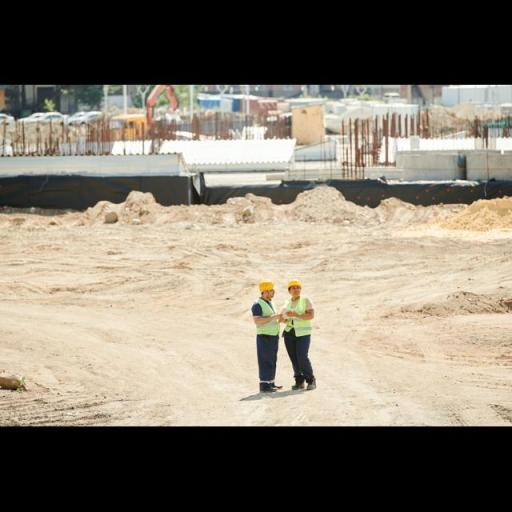Person: (282, 265, 322, 397), (246, 264, 286, 396)
boots: (257, 378, 284, 395), (292, 376, 318, 393)
helmet: (254, 280, 276, 290), (288, 283, 306, 293)
vest: (281, 300, 316, 334), (246, 298, 280, 332)
